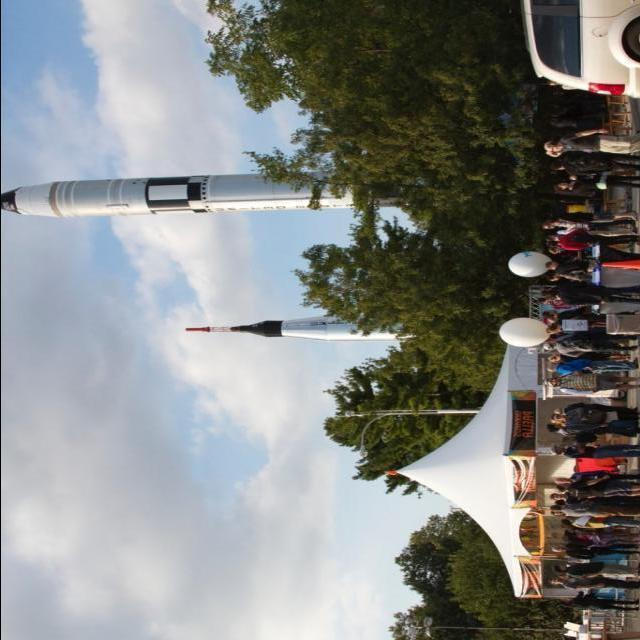missile: (8, 161, 400, 229)
